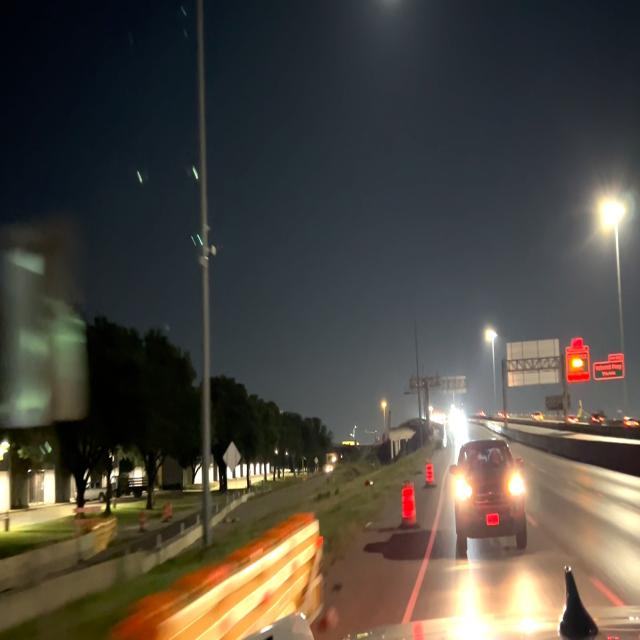back-of-sign: (505, 336, 564, 391), (437, 370, 469, 398), (221, 438, 243, 472)
